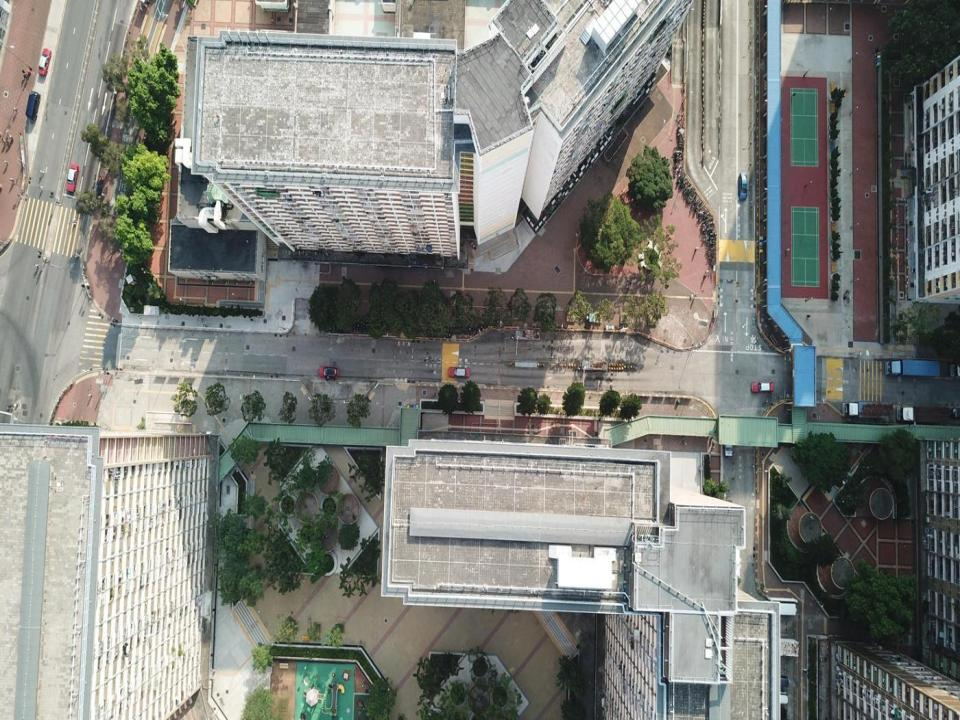car: (37, 47, 52, 76), (66, 162, 79, 192), (751, 379, 774, 394), (738, 171, 748, 201), (318, 366, 340, 378), (448, 367, 470, 378)
truck: (896, 404, 951, 425), (884, 358, 940, 378), (842, 400, 894, 418), (724, 426, 734, 457)
van: (26, 90, 40, 121)
